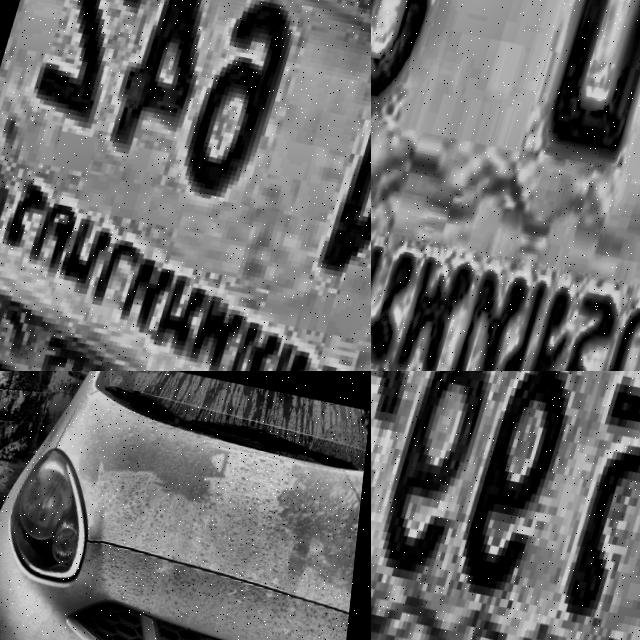license-plate: (0, 0, 371, 371), (371, 0, 640, 371), (371, 371, 640, 640)
